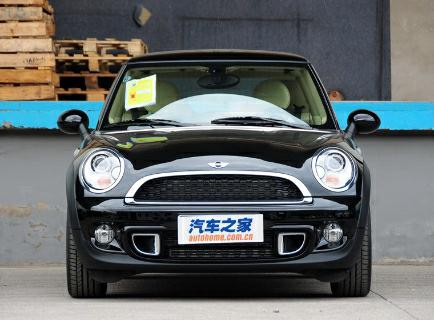MINI: (55, 59, 383, 301)
